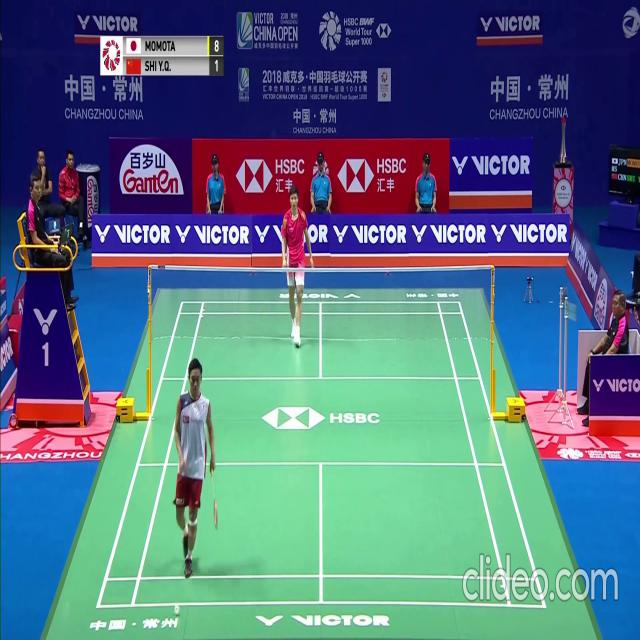Shuttlecock: (174, 606, 179, 614)
